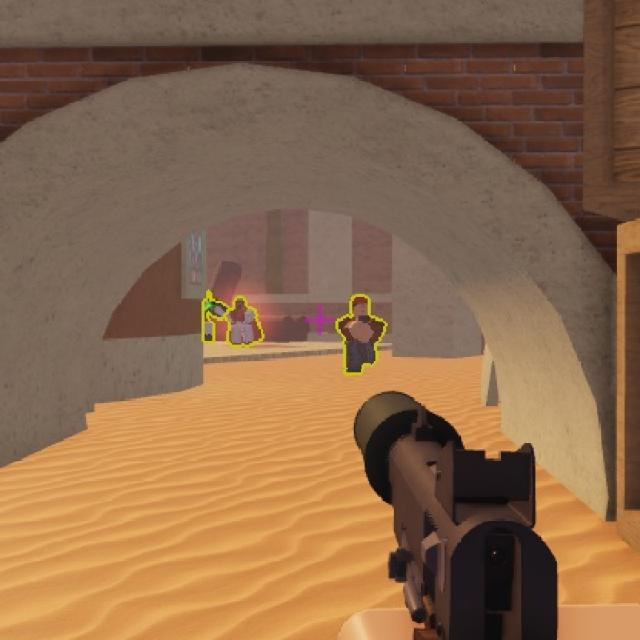player: (344, 296, 377, 372), (227, 297, 254, 348), (203, 300, 220, 346)
